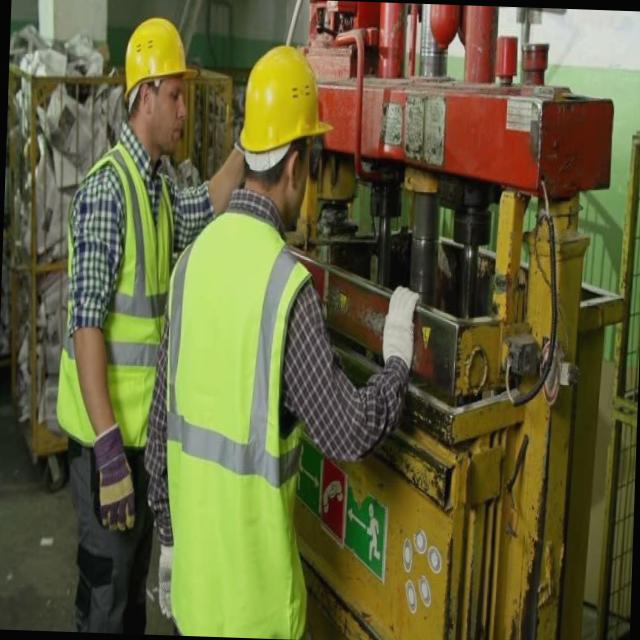helmet: (228, 39, 338, 167), (118, 12, 191, 112)
vest: (164, 227, 316, 640), (57, 135, 177, 455)
